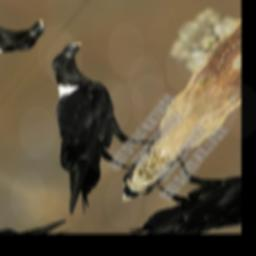Crow: (0, 36, 194, 228)
